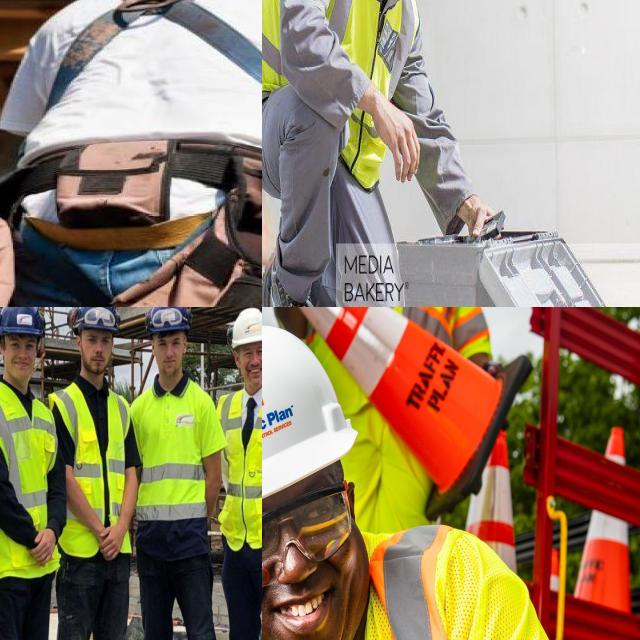Harness: (45, 0, 262, 112)
face_nomask: (262, 480, 354, 640), (78, 328, 116, 378), (2, 337, 40, 381), (152, 333, 187, 375), (239, 342, 262, 387)
glasses: (262, 477, 355, 583), (81, 307, 115, 330), (148, 307, 185, 327)
hand_noglove: (374, 76, 424, 196), (462, 193, 502, 247), (85, 523, 126, 563), (24, 527, 59, 571)
head_helmet: (262, 326, 362, 512), (0, 307, 45, 339), (232, 307, 262, 350), (72, 307, 122, 331), (146, 307, 191, 331)
person: (262, 323, 640, 640), (262, 0, 498, 307), (134, 307, 228, 640), (56, 307, 145, 640), (0, 307, 56, 640), (224, 307, 262, 640)
shoes: (263, 251, 326, 307)
vest: (262, 548, 603, 640), (279, 0, 418, 179), (129, 374, 217, 554), (50, 376, 132, 555), (0, 389, 58, 590), (214, 379, 262, 547)
